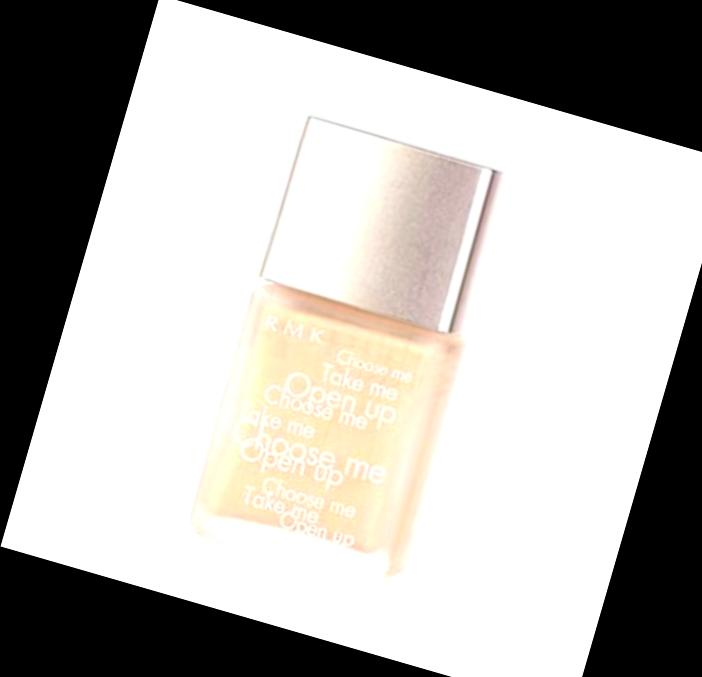cosmetic: (178, 110, 524, 596)
